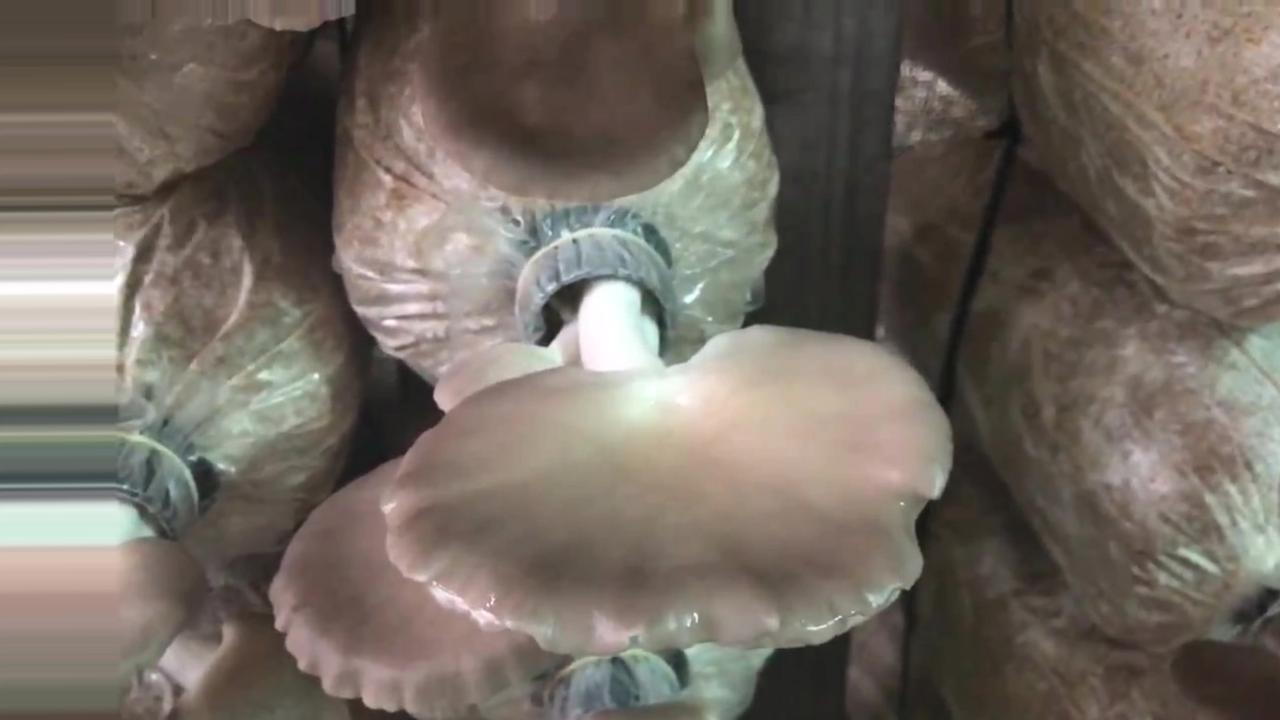nam: (382, 221, 955, 659), (270, 456, 553, 718), (424, 1, 710, 202), (1, 425, 198, 715)
